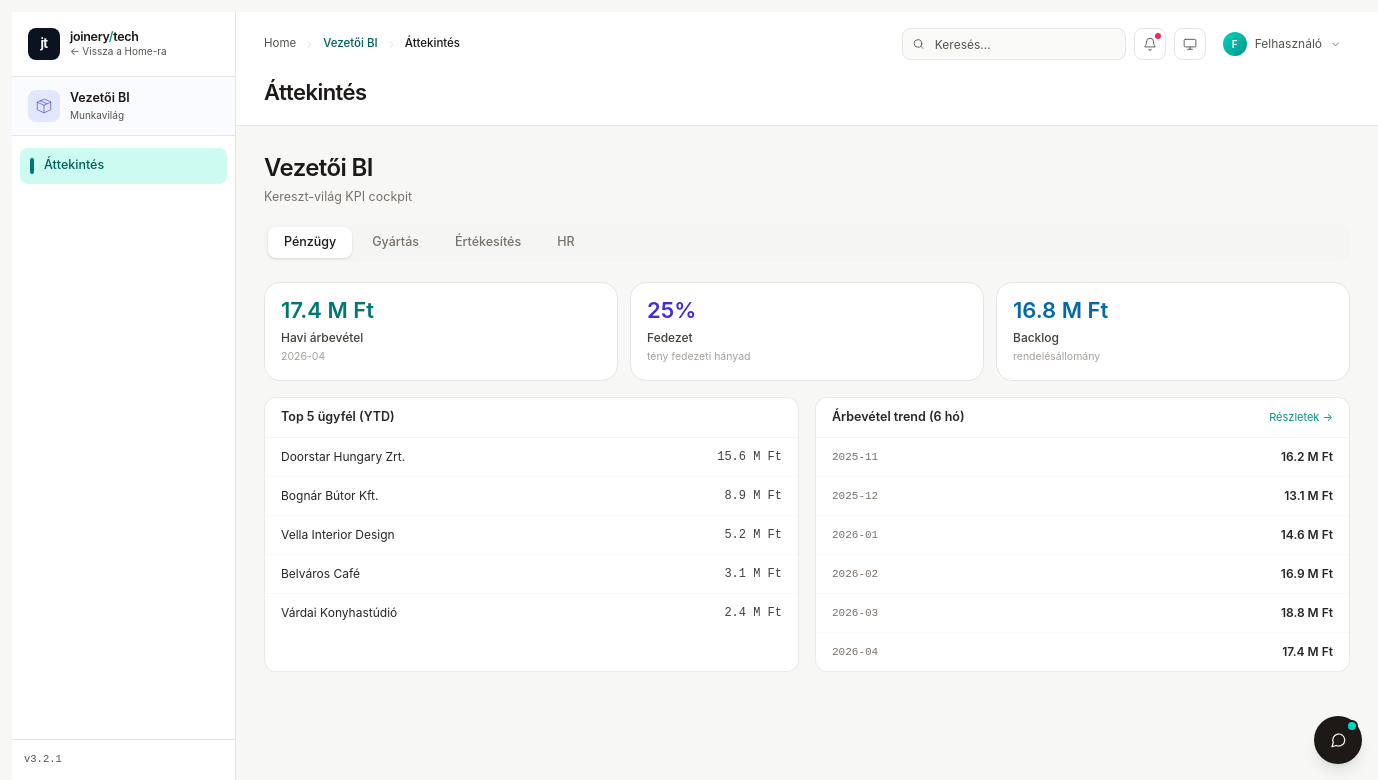
ExecBiPage › clicking sales tab renders sales content
This screenshot has width=1378, height=780.
Click the button "Értékesítés" at (488, 242), box [439,227,537,258]
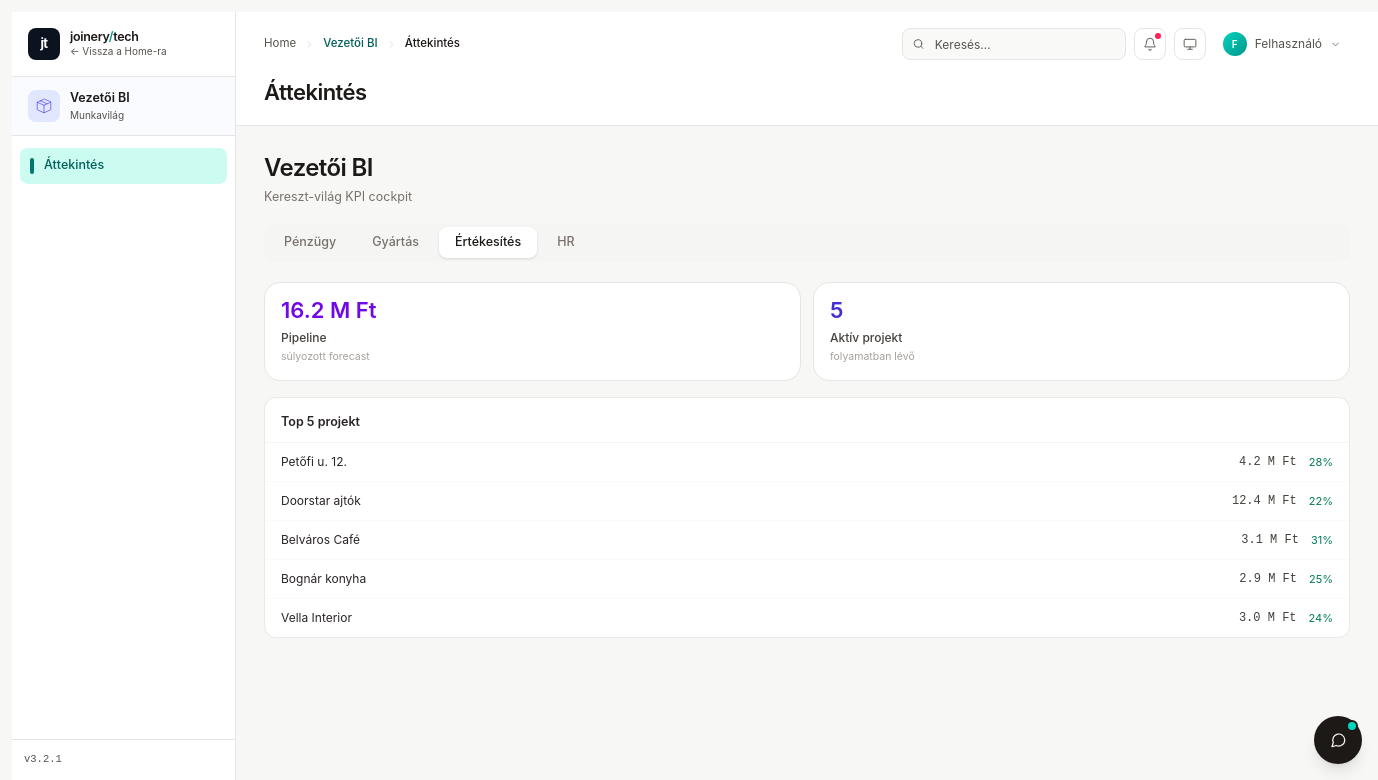
Expected: the text "Pipeline" is shown, [281,330,326,344]
